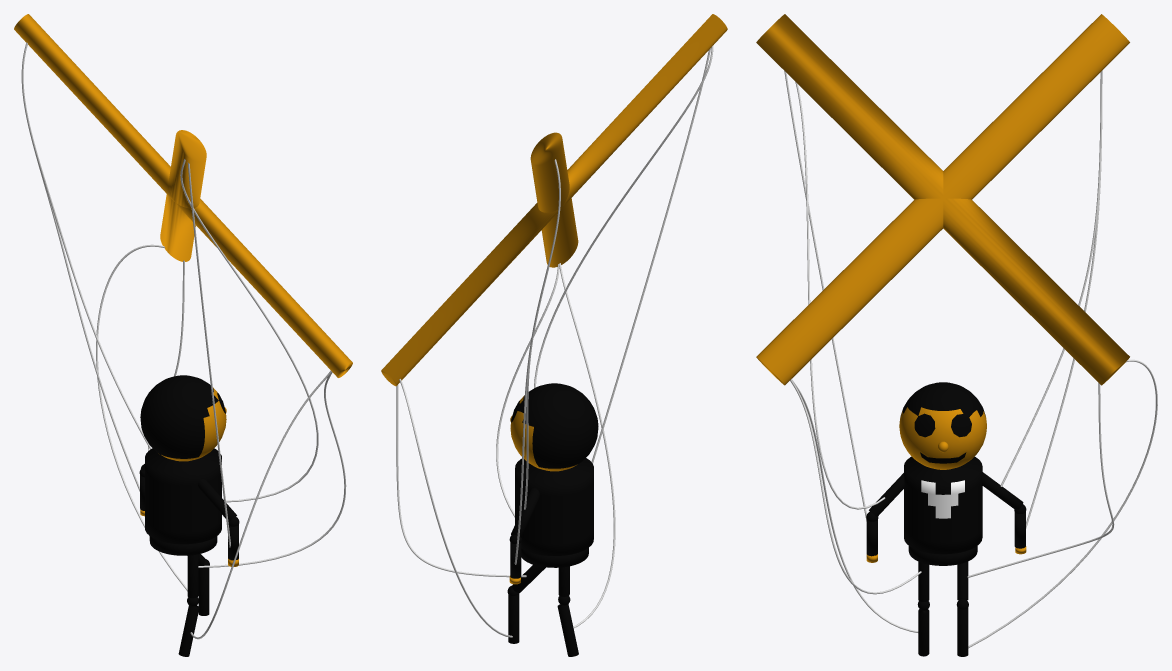
The model's file is doll.fbx.
3 renders of one model, left to right at view 1: azimuth 30°, elevation 25°; view 2: azimuth 150°, elevation 25°; view 3: azimuth 270°, elevation 25°, orthographic. The views are drawn at different scales.
Visible parts, largest first — view 1: handle, body, head, NurbsPath.006, NurbsPath.007, NurbsPath, NurbsPath.001, NurbsPath.005, NurbsPath.004, NurbsPath.003, RightArm, RightLeg (+2 smaller); view 2: handle, body, head, NurbsPath, NurbsPath.001, NurbsPath.004, NurbsPath.006, NurbsPath.005, NurbsPath.002, NurbsPath.003, RightFoot, LeftArm (+1 smaller); view 3: handle, body, head, NurbsPath.006, NurbsPath, NurbsPath.005, NurbsPath.007, NurbsPath.001, NurbsPath.002, NurbsPath.003, NurbsPath.004, LeftArm (+1 smaller).
Part boxes in pixels (<box>): handle: <box>14,14,352,377</box>; body: <box>145,448,221,555</box>; head: <box>140,375,226,461</box>; NurbsPath.006: <box>180,159,318,502</box>; NurbsPath.007: <box>21,43,151,449</box>; NurbsPath: <box>187,162,230,547</box>; NurbsPath.001: <box>21,42,139,491</box>; NurbsPath.005: <box>96,244,198,603</box>; NurbsPath.004: <box>190,370,331,639</box>; NurbsPath.003: <box>198,372,346,567</box>; RightArm: <box>198,479,239,526</box>; RightLeg: <box>187,554,198,606</box>; handle: <box>381,14,727,386</box>; body: <box>515,458,593,567</box>; head: <box>510,383,598,471</box>; NurbsPath: <box>591,48,710,463</box>; NurbsPath.001: <box>514,159,560,564</box>; NurbsPath.004: <box>559,263,615,627</box>; NurbsPath.006: <box>534,45,713,388</box>; NurbsPath.005: <box>399,379,512,637</box>; NurbsPath.002: <box>396,384,526,577</box>; NurbsPath.003: <box>496,264,559,517</box>; RightFoot: <box>557,604,578,656</box>; LeftArm: <box>509,488,539,543</box>; handle: <box>756,14,1129,385</box>; body: <box>904,456,982,565</box>; head: <box>899,382,986,469</box>; NurbsPath.006: <box>795,82,885,509</box>; NurbsPath: <box>784,71,866,521</box>; NurbsPath.005: <box>968,359,1157,648</box>; NurbsPath.007: <box>1000,71,1101,486</box>; NurbsPath.001: <box>1026,70,1102,528</box>; NurbsPath.002: <box>967,383,1114,577</box>; NurbsPath.003: <box>790,379,921,594</box>; NurbsPath.004: <box>791,379,918,632</box>; LeftArm: <box>982,472,1026,513</box>.
Size of the model in its own units: 523 by 1518 by 915.
